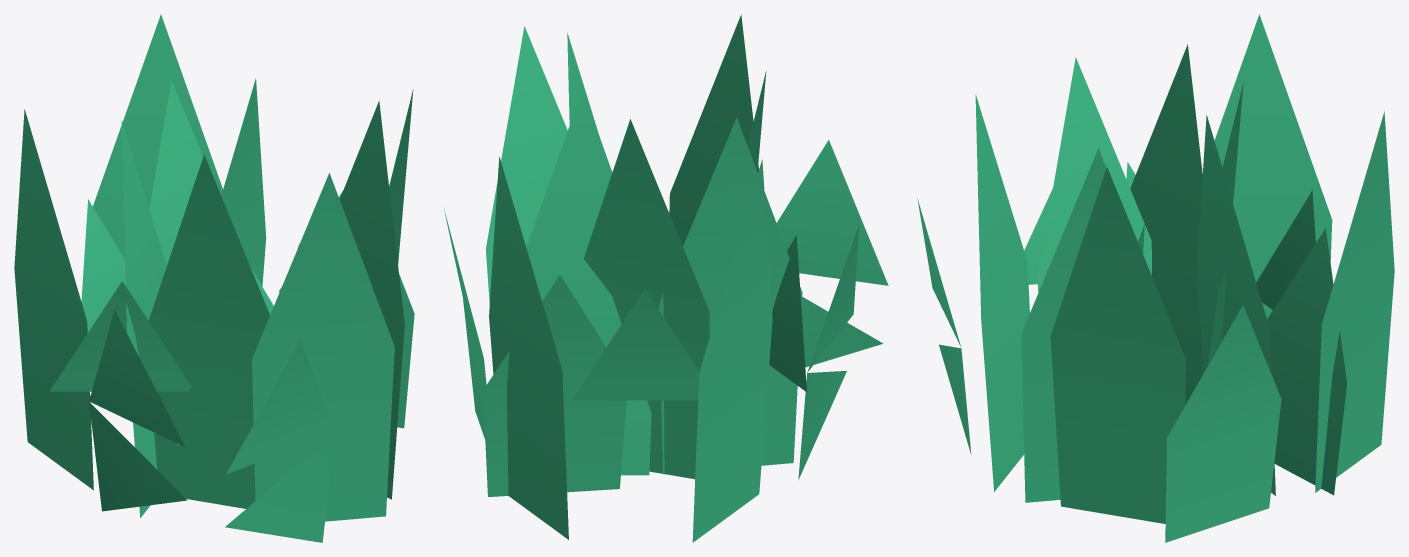
The model's file is Unmowed Grass.glb.
3 views of the same model, side by side, from view 1: azimuth 30°, elevation 25°; view 2: azimuth 150°, elevation 25°; view 3: azimuth 270°, elevation 25° (orthographic).
Parts seen in each view (by area): view 1: Mowed Grass High LOD; view 2: Mowed Grass High LOD; view 3: Mowed Grass High LOD.
Boxes of the visible parts, bbox=[...] form: Mowed Grass High LOD: bbox=[14, 14, 414, 542]; Mowed Grass High LOD: bbox=[444, 14, 888, 542]; Mowed Grass High LOD: bbox=[917, 14, 1394, 542].
Size of the model in its own units: 0.8627 by 0.855 by 1.01.
